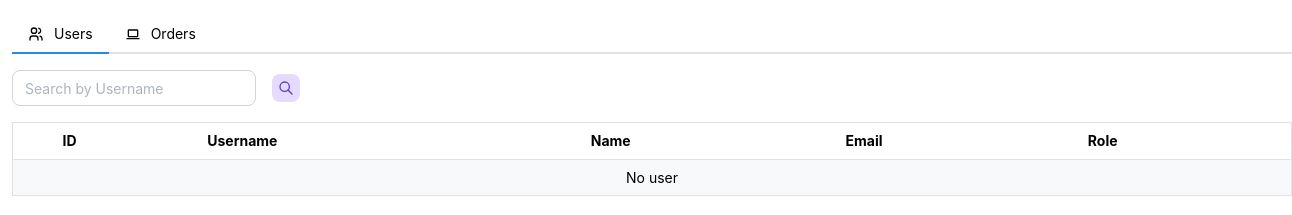
AdminTab › renders order rows in the Orders tab
The width and height of the screenshot is (1292, 215).
Click the tab "Orders": (160, 35) top-left (109, 16), bottom-right (212, 54)
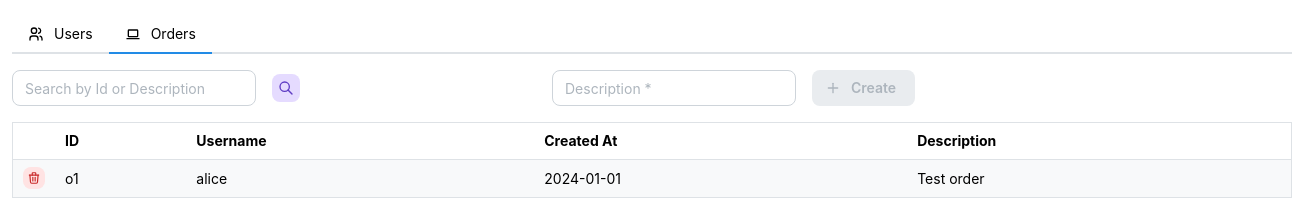
Expected: the text "Test order" is shown, top-left (907, 159), bottom-right (1291, 198)
